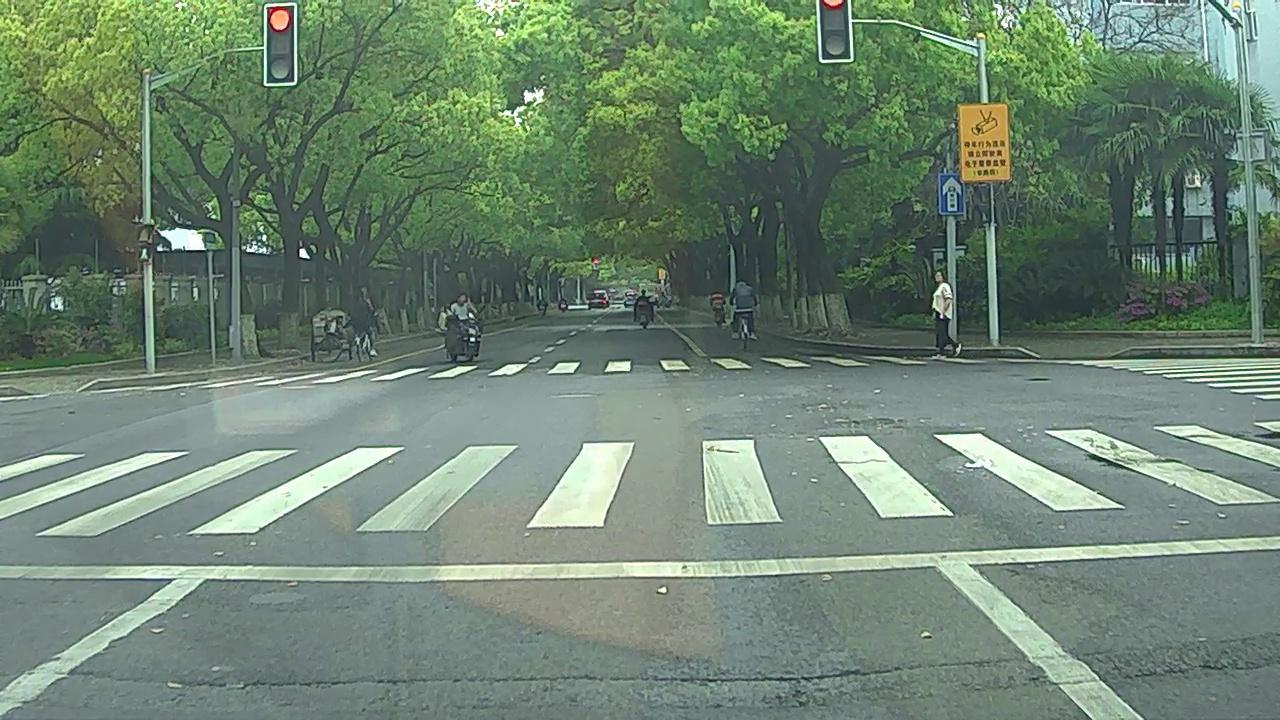traffic_light: (265, 4, 297, 83), (820, 1, 851, 58)
